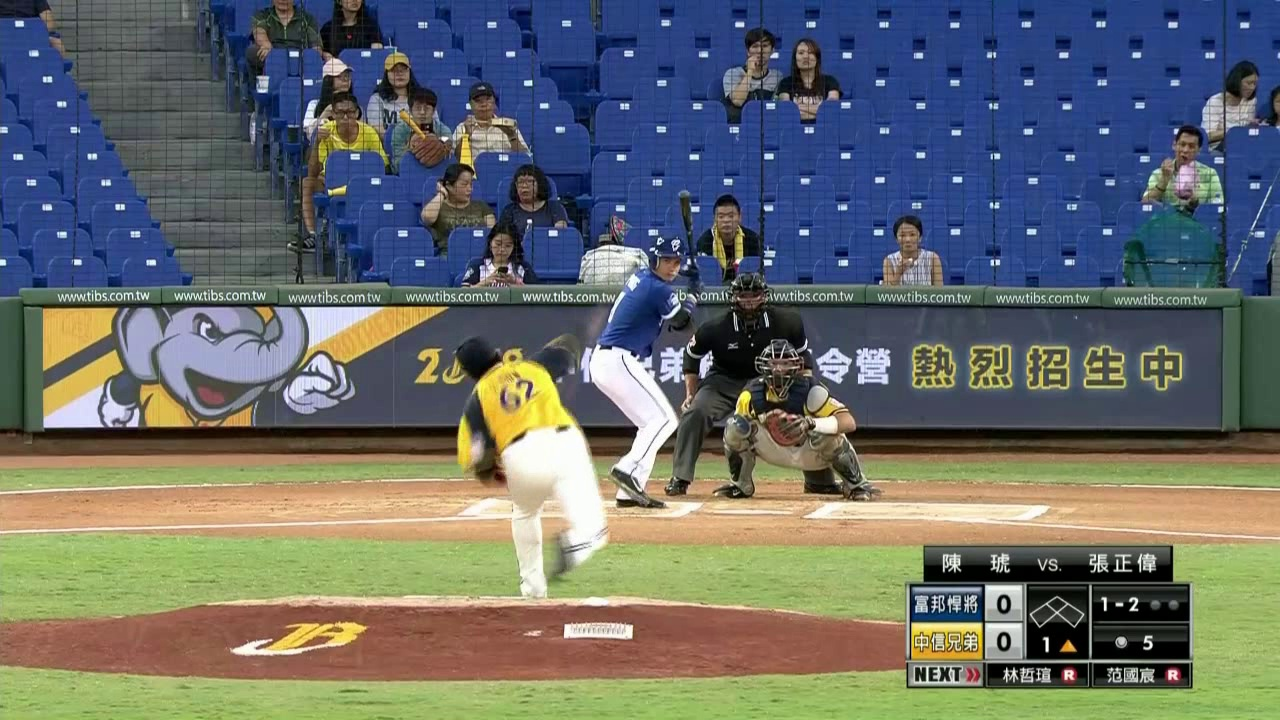ball: (619, 253, 634, 264)
base: (1028, 587, 1093, 634)
bat: (678, 194, 698, 299)
out: (1147, 594, 1182, 617)
score1: (991, 592, 1017, 614)
score2: (988, 630, 1016, 657)
session: (1032, 637, 1080, 654)
strikeball: (1098, 591, 1144, 620)
total: (1108, 628, 1155, 655)
